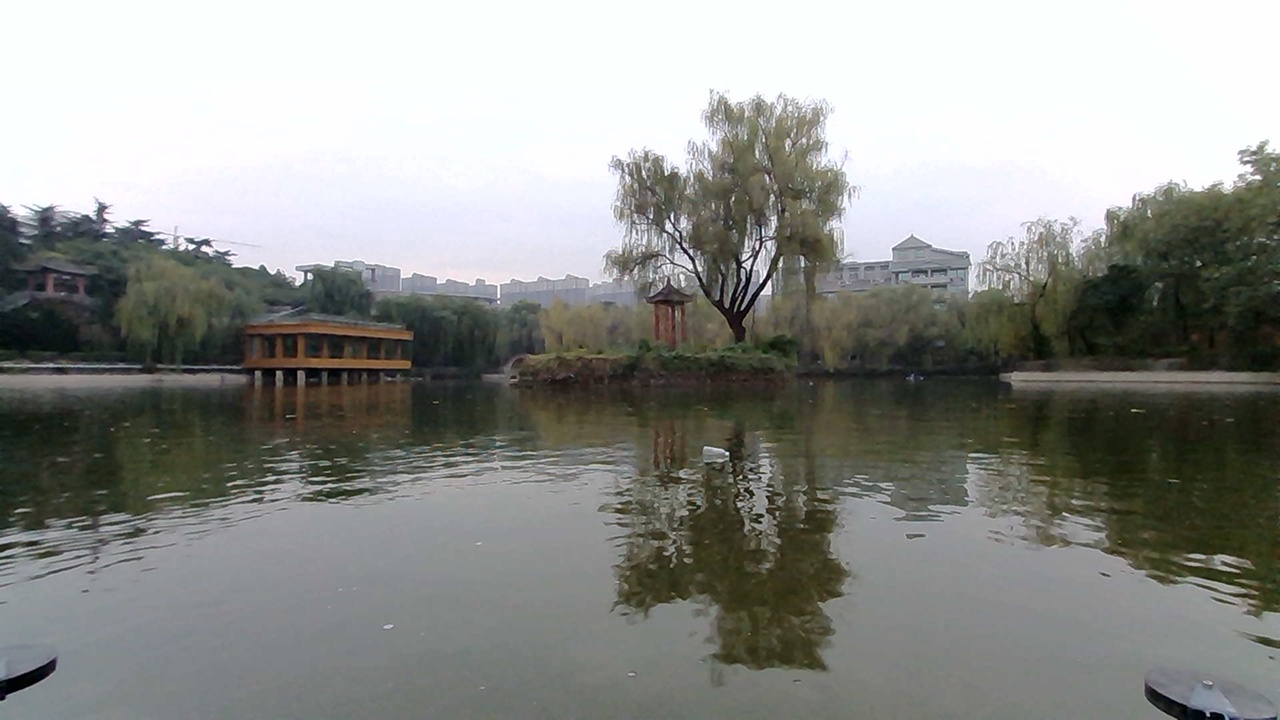bottle: (686, 430, 750, 463)
